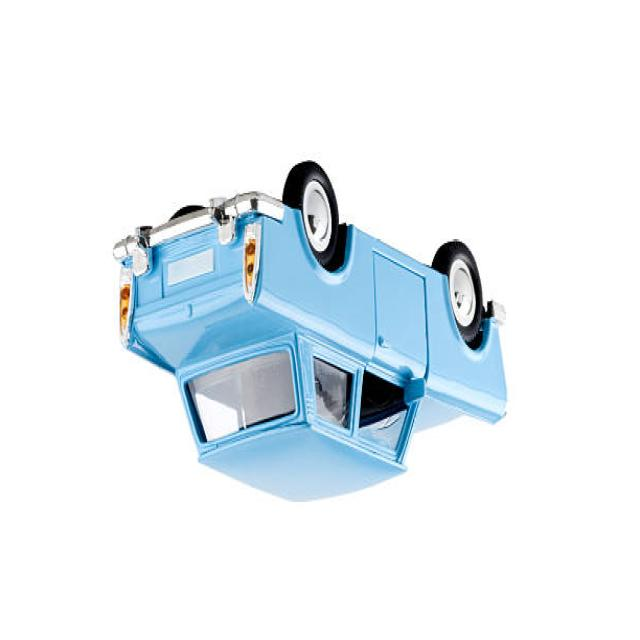Car: (113, 162, 509, 505)
